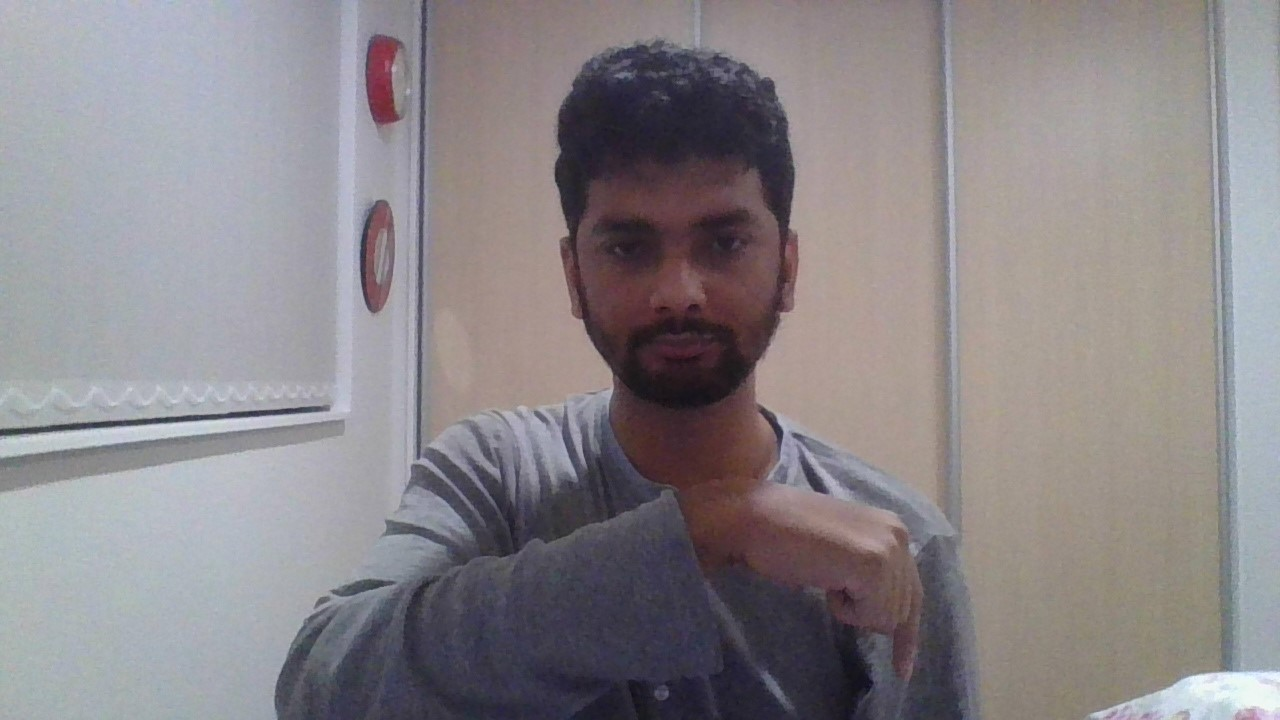below: (674, 477, 924, 681)
